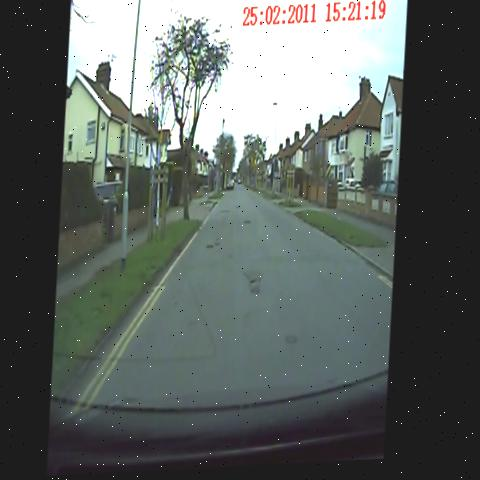pothole: (199, 228, 231, 264), (243, 271, 269, 301), (284, 330, 305, 361), (243, 218, 257, 234), (221, 207, 234, 221), (236, 198, 245, 218)
